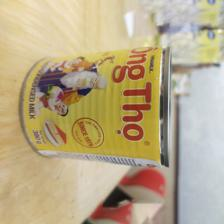Ong_tho: (20, 42, 173, 171)
